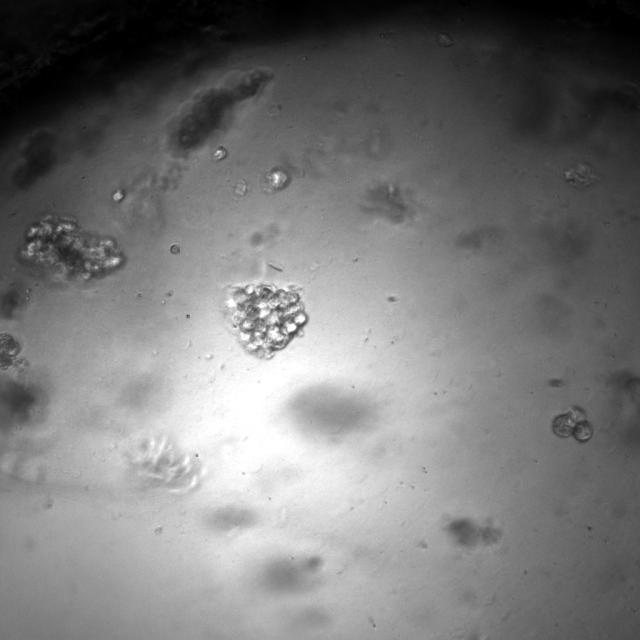organoid: (169, 68, 272, 157), (17, 215, 125, 281), (228, 283, 307, 356), (551, 406, 592, 442), (562, 163, 596, 188), (0, 333, 21, 369), (262, 167, 289, 193), (436, 32, 454, 46), (212, 145, 227, 161), (112, 188, 126, 202), (169, 244, 180, 254)
